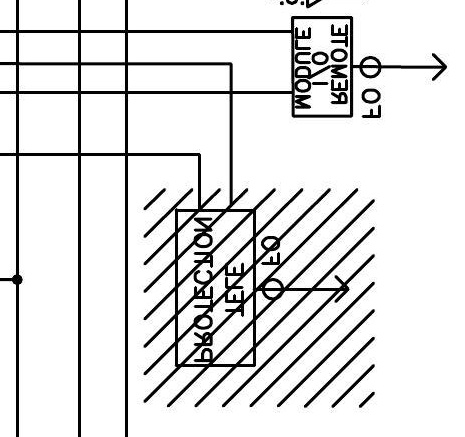remote_io_module: (289, 14, 355, 120)
tele_protection: (172, 207, 258, 370)
